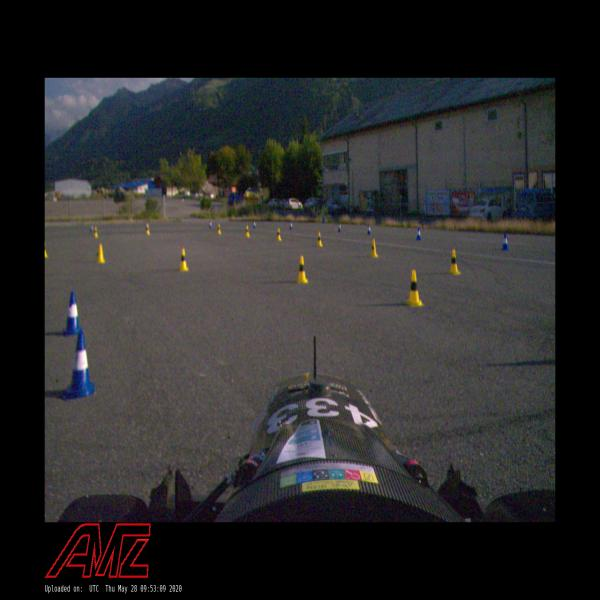blue_cone: (62, 332, 94, 398), (62, 292, 82, 336), (502, 234, 509, 250), (416, 228, 421, 241), (367, 225, 372, 235), (90, 225, 94, 233), (338, 222, 341, 232), (253, 220, 256, 229), (209, 220, 212, 228), (290, 221, 292, 230)
yellow_cone: (406, 270, 424, 308), (448, 249, 462, 275), (296, 256, 308, 283), (179, 248, 189, 271), (96, 244, 105, 263), (369, 239, 378, 258), (316, 232, 323, 247), (276, 228, 281, 241), (93, 226, 98, 238), (245, 226, 250, 237), (146, 224, 150, 235), (217, 224, 221, 235)
